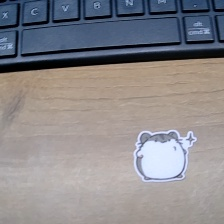mouse: (133, 129, 197, 184)
